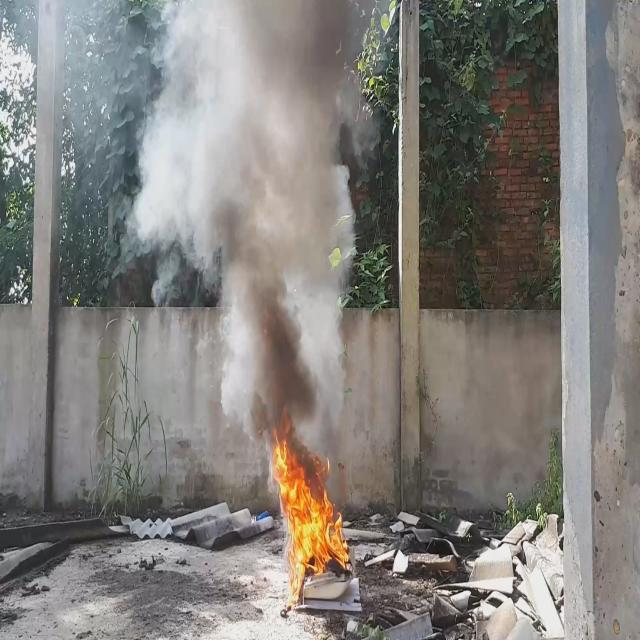Fire: (268, 408, 349, 602)
Smoke: (129, 0, 384, 433)
